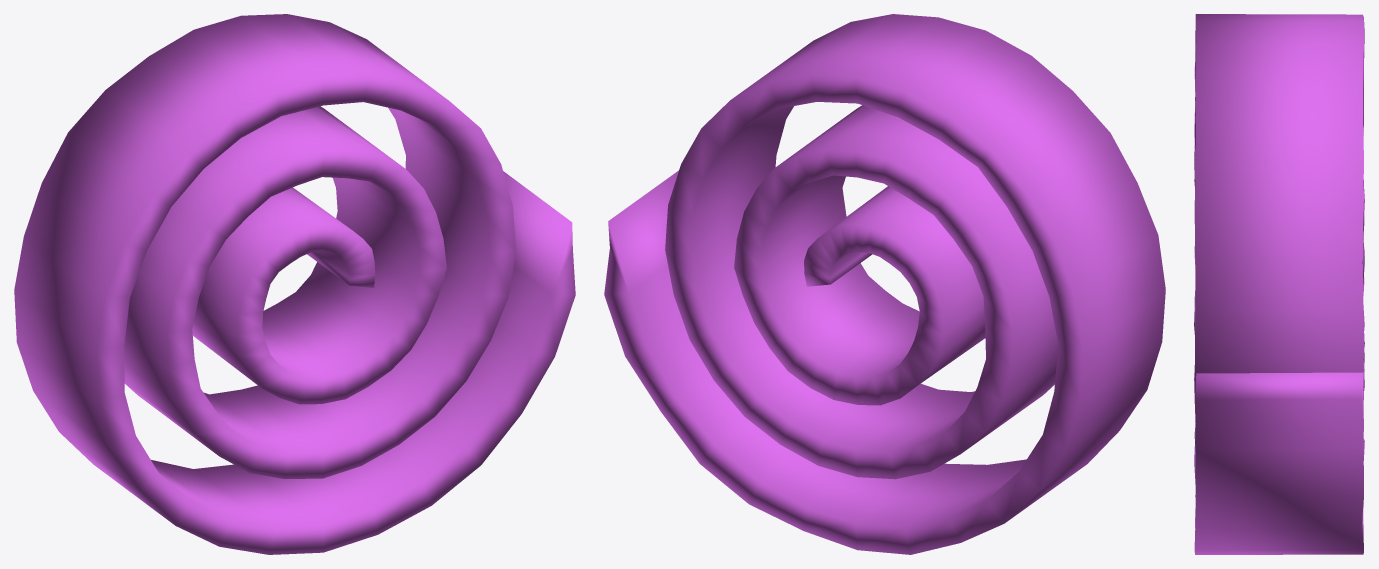
The model's file is SourBelt.glb.
The picture shows the model from 3 angles, left to right: view 1: azimuth 30°, elevation 25°; view 2: azimuth 150°, elevation 25°; view 3: azimuth 270°, elevation 25°; orthographic projection.
Visible parts, largest first — view 1: SourBelt; view 2: SourBelt; view 3: SourBelt.
Part boxes in pixels (box(x1,y1,x2,y2)): SourBelt: box(14, 14, 575, 554); SourBelt: box(604, 14, 1165, 554); SourBelt: box(1194, 14, 1364, 554).
Size of the model in its own units: 0.5683 by 0.5383 by 0.1735.
